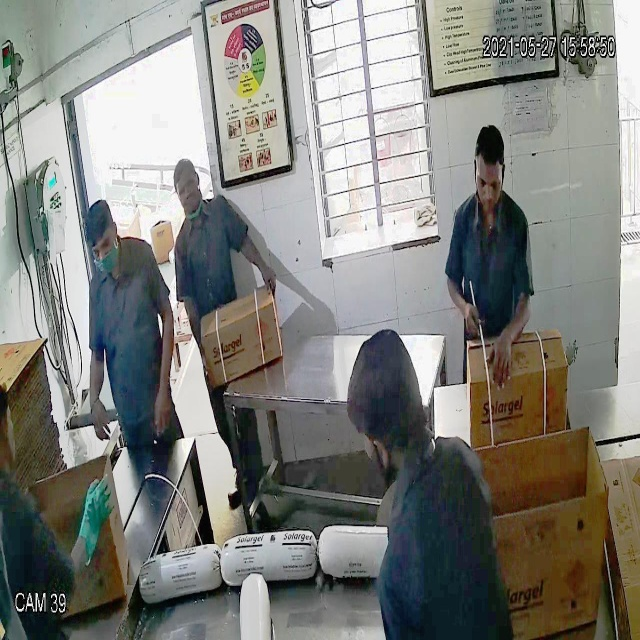Sin_gafas: (470, 169, 510, 198), (86, 228, 121, 261)
